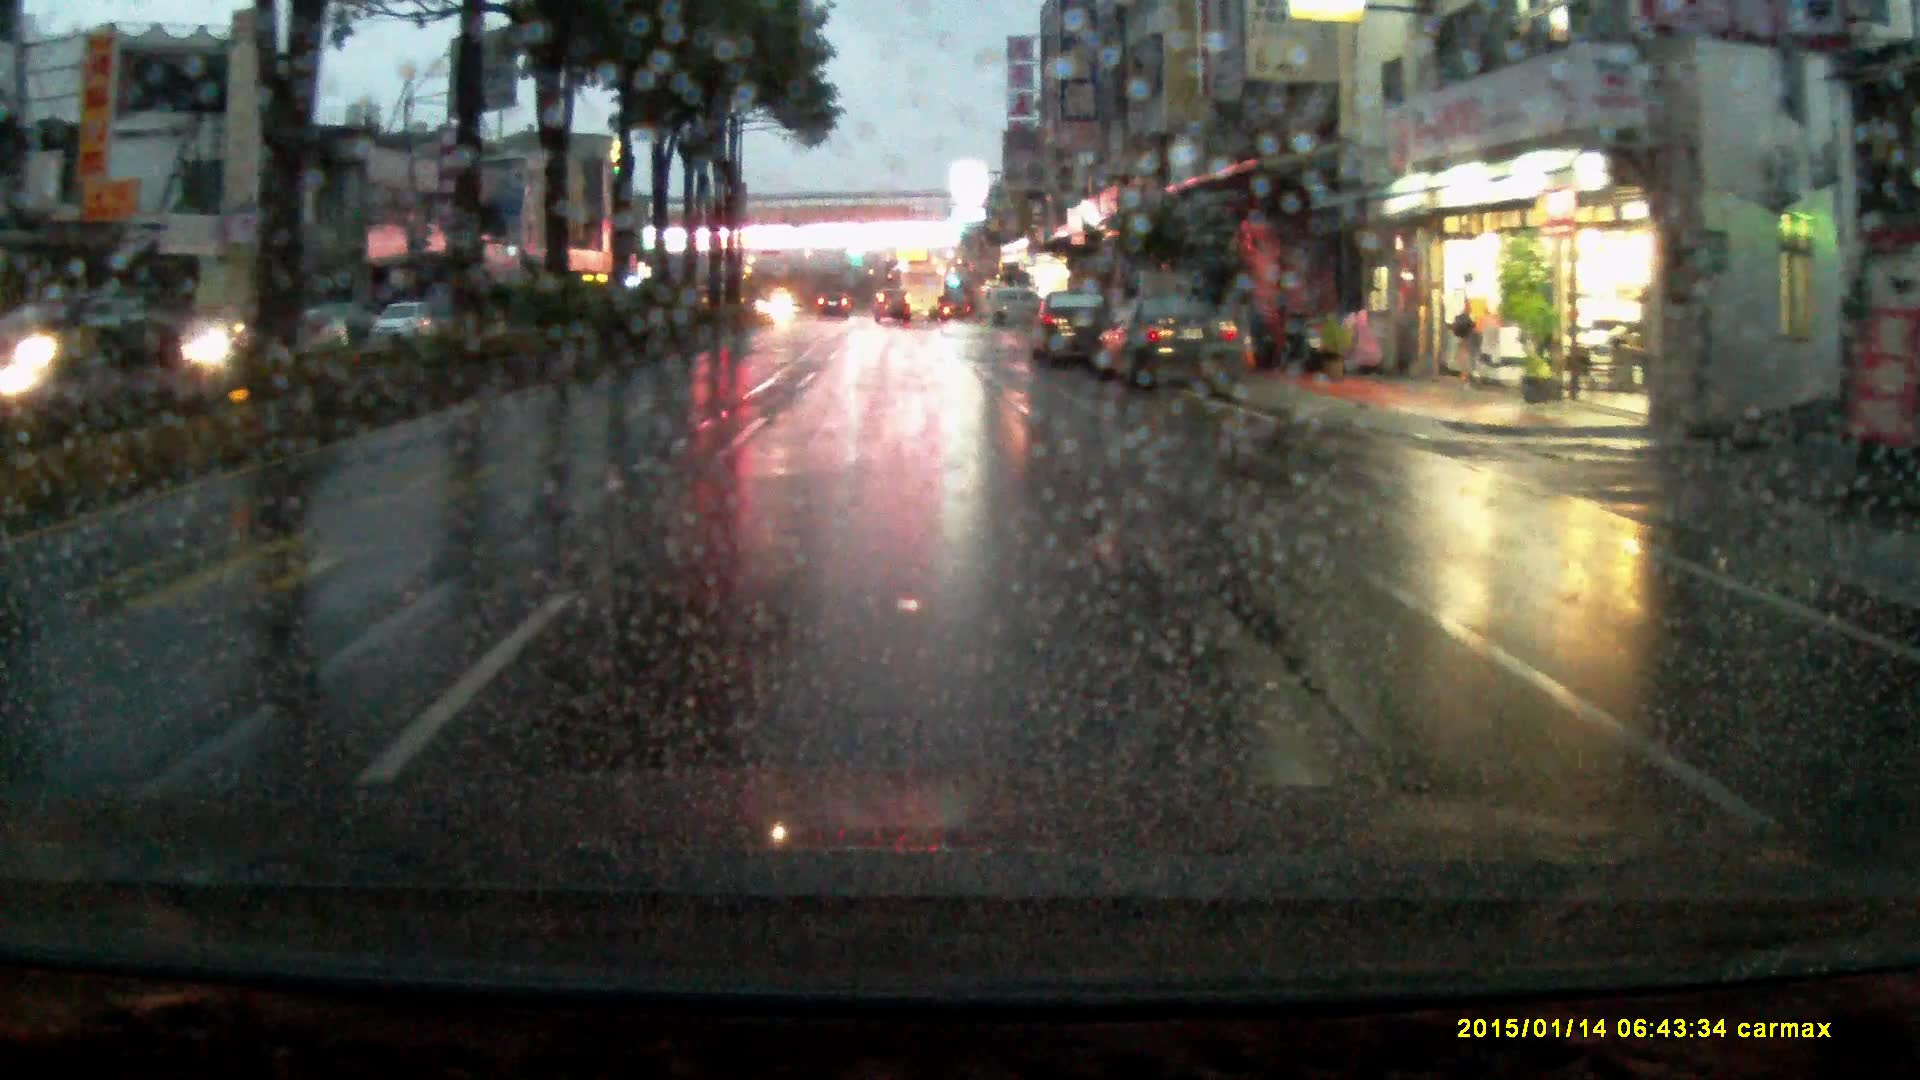rider: (2, 288, 74, 420)
vehicle: (1090, 304, 1248, 401), (1028, 301, 1116, 381), (248, 317, 345, 369), (889, 275, 944, 332), (977, 295, 1044, 337), (372, 309, 434, 351), (872, 301, 912, 334), (815, 301, 854, 330)
